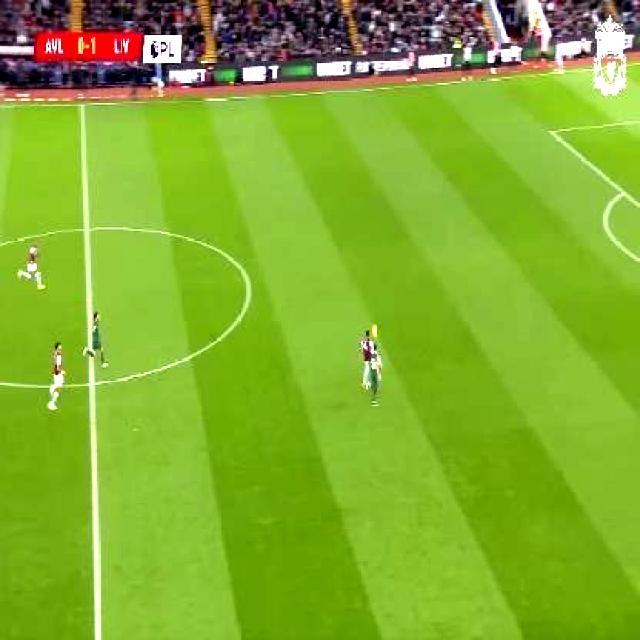bigarea_top_inner: (545, 123, 557, 142)
halfcircle_bottom: (83, 369, 100, 398)
halfcircle_top: (75, 212, 97, 243)
midline_top_intersection: (72, 94, 90, 118)
top_arc_area_intersection: (615, 183, 628, 202)
